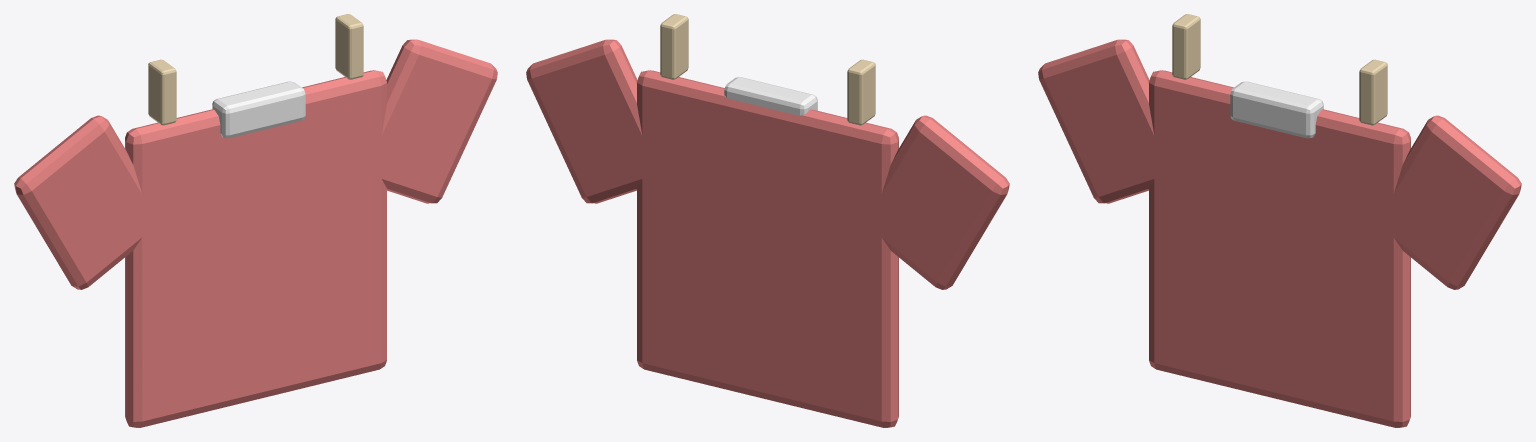
The model's file is shirt.glb.
The picture shows the model from 3 angles, left to right: view 1: azimuth 30°, elevation 25°; view 2: azimuth 150°, elevation 25°; view 3: azimuth 330°, elevation 25°; orthographic projection.
Parts seen in each view (by area): view 1: shirt; view 2: shirt; view 3: shirt.
Boxes of the visible parts, bbox=[...] form: shirt: bbox=[14, 14, 497, 427]; shirt: bbox=[526, 14, 1009, 427]; shirt: bbox=[1038, 14, 1521, 427].
Size of the model in its own units: 0.9243 by 0.655 by 0.06.
